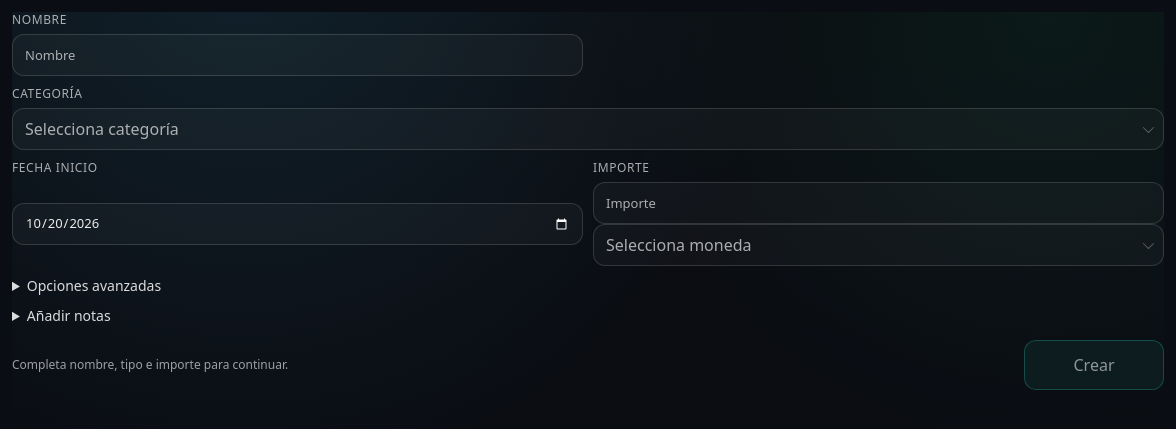
Test: ItemForm (saas) › shows amount validation errors
Type "12.3.4" into the field with placeholder "Importe" at point(878, 203), box [593,182,1164,224]
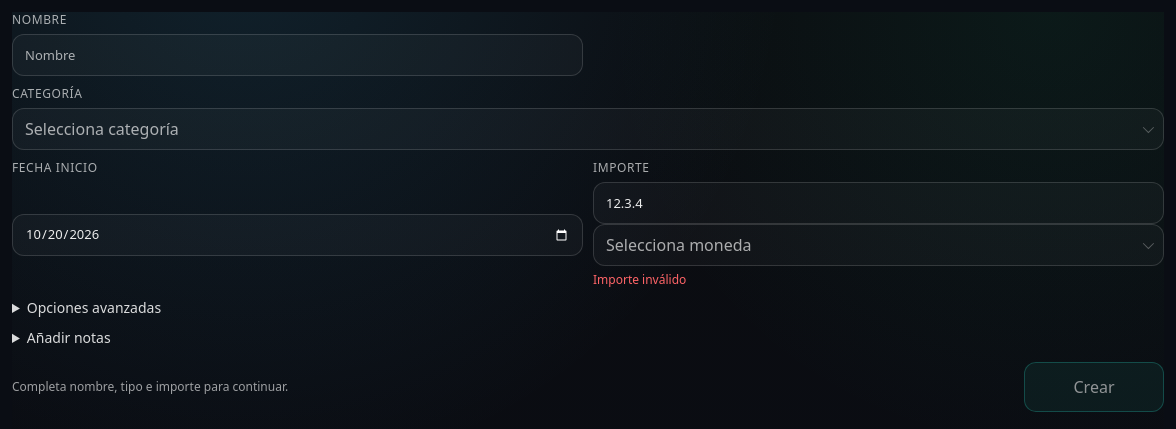
Check: the text "Importe inv" is shown, box [593,271,686,288]
